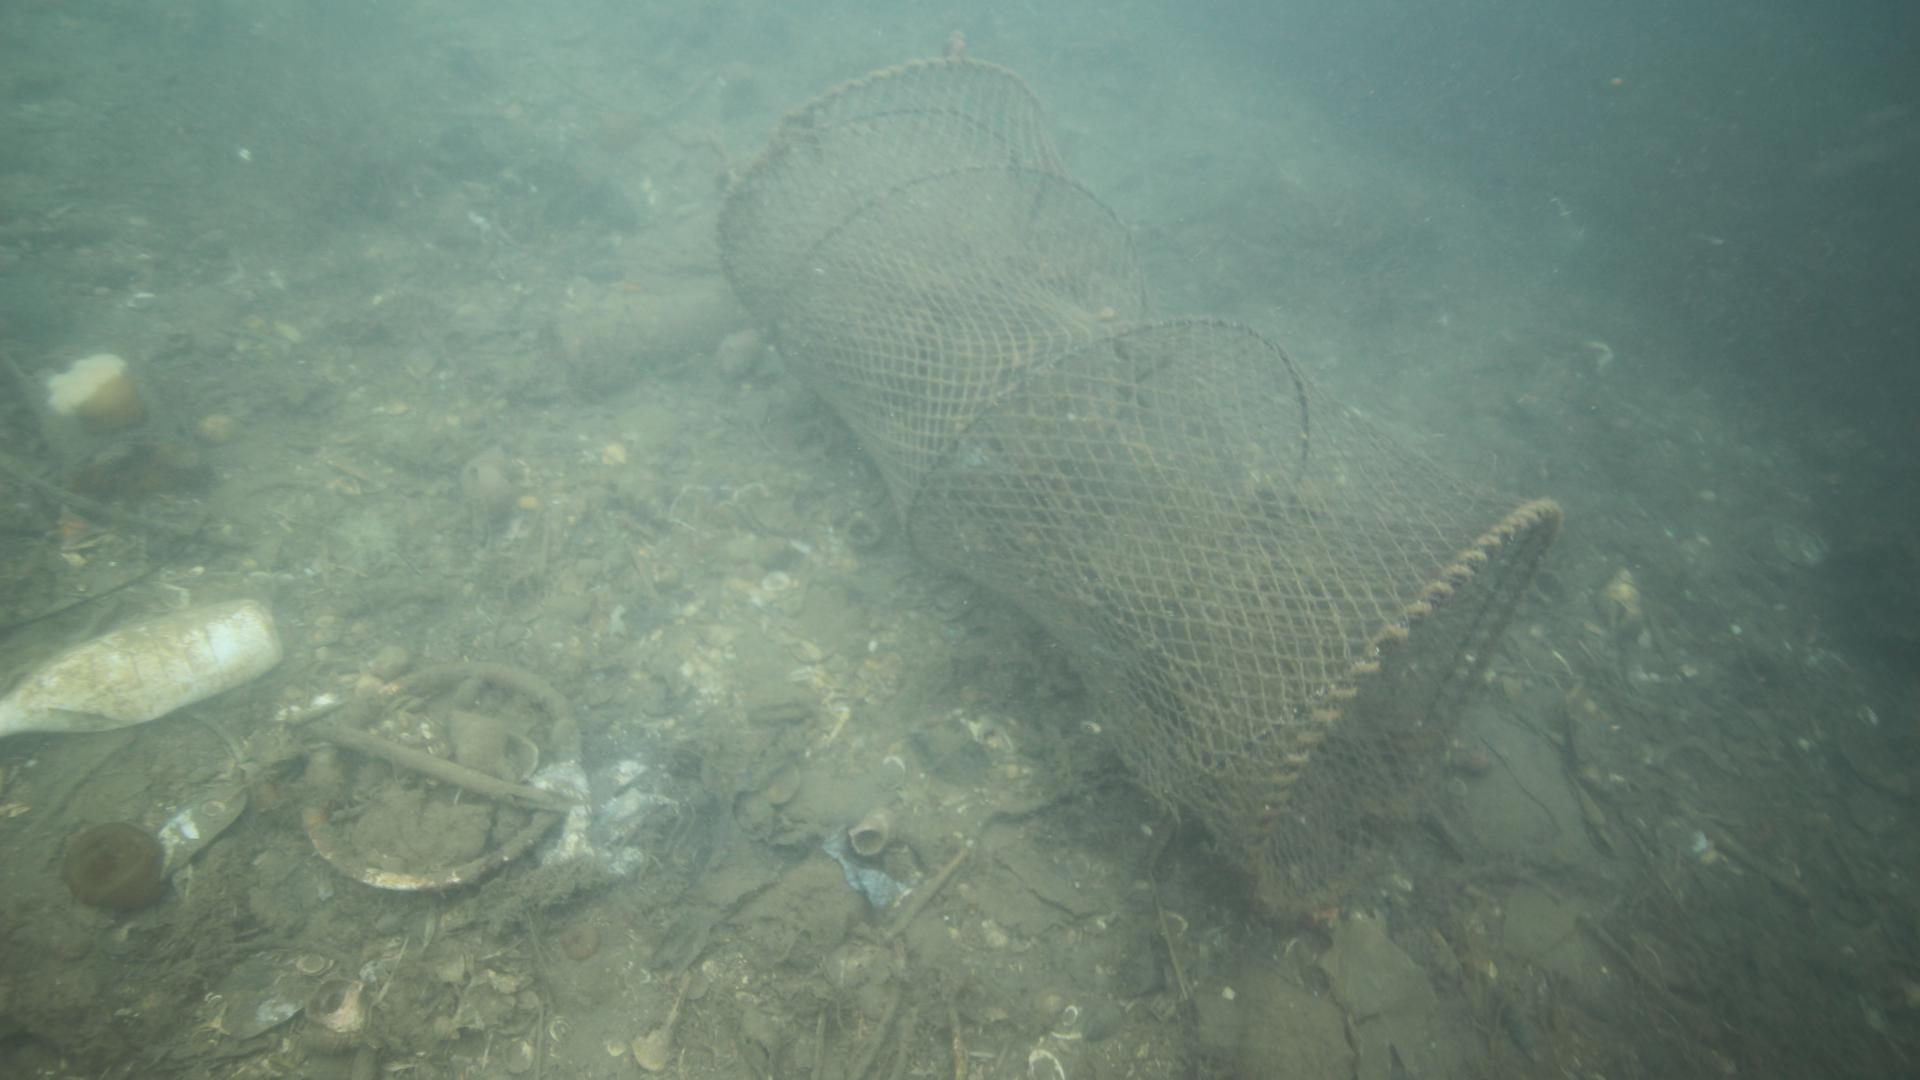spring fish trap: (713, 51, 1564, 913)
